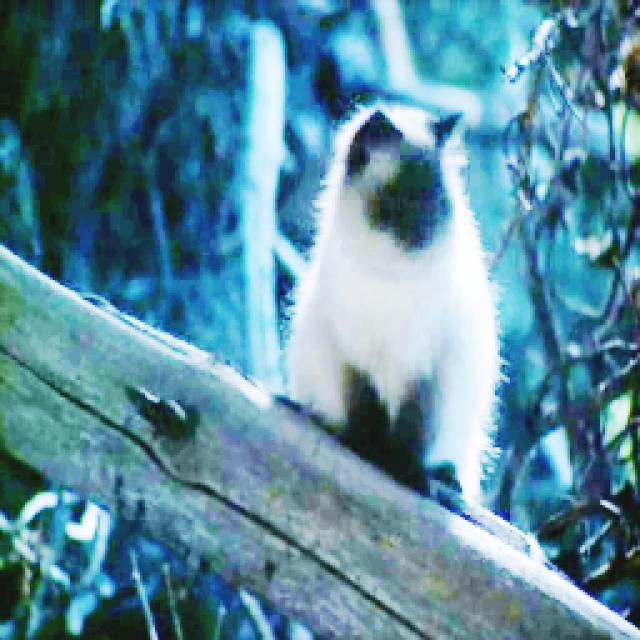cat: (278, 101, 496, 505)
